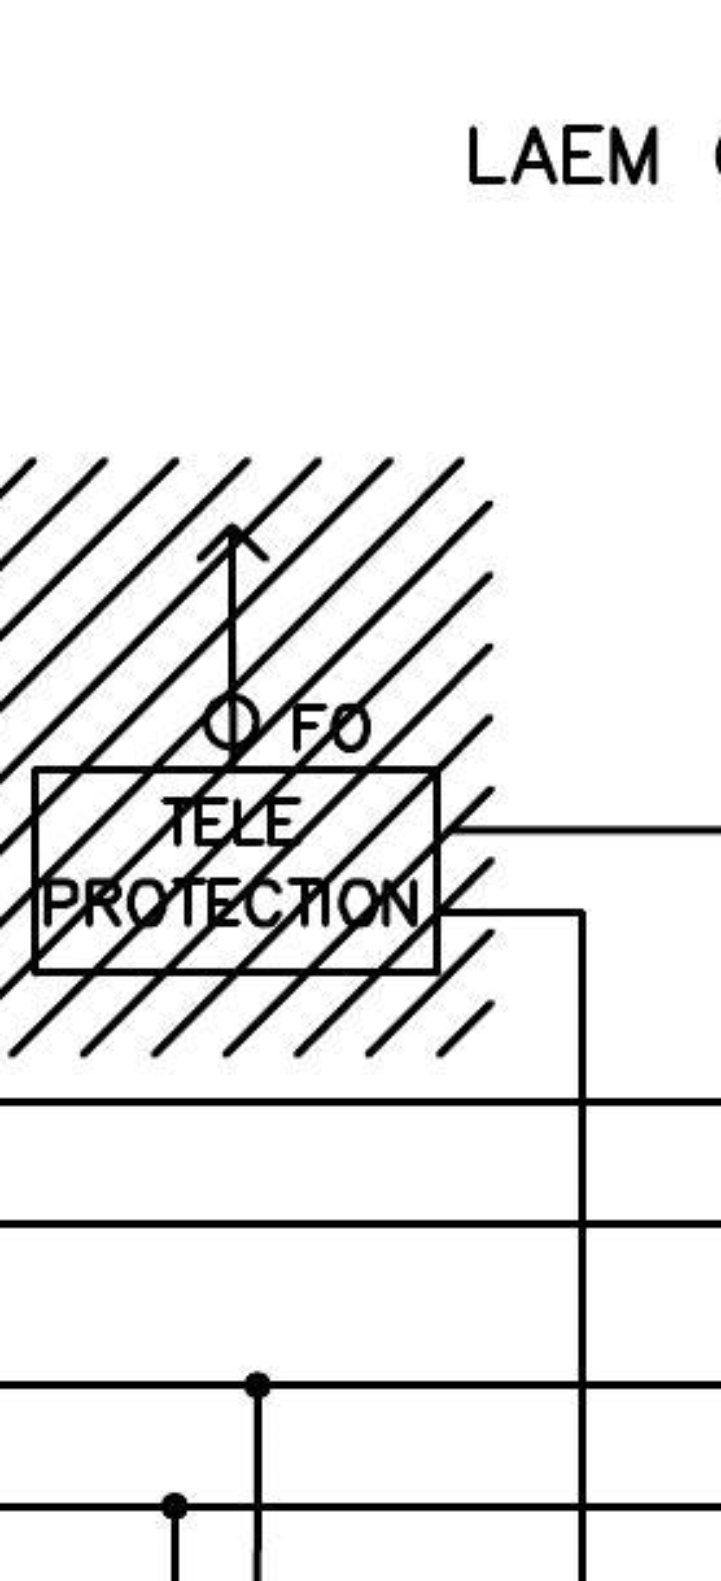tele_protection: (23, 759, 448, 984)
